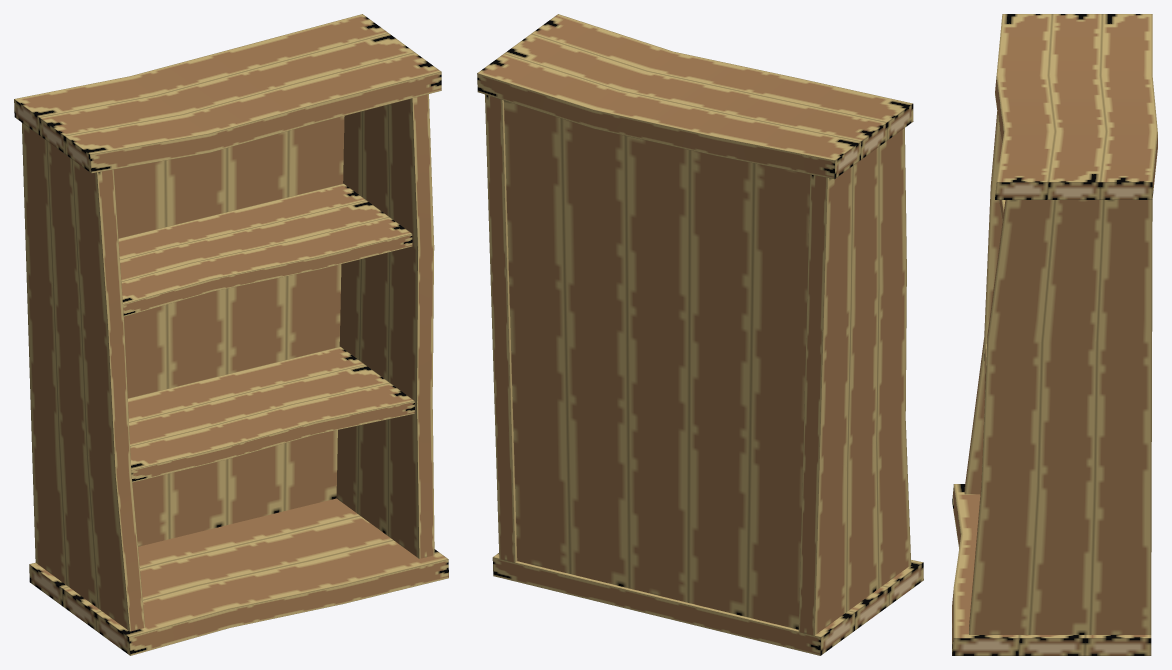
File: deco_cathedral_bookCaseEmpty.FBX
3 views of the same model, side by side, from view 1: azimuth 30°, elevation 25°; view 2: azimuth 150°, elevation 25°; view 3: azimuth 270°, elevation 25° (orthographic). The views are drawn at different scales.
Parts seen in each view (by area): view 1: deco_cathedral_bookCaseEmpty; view 2: deco_cathedral_bookCaseEmpty; view 3: deco_cathedral_bookCaseEmpty.
Part boxes in pixels (x1,y1,x2,y2): deco_cathedral_bookCaseEmpty: [14, 14, 448, 655]; deco_cathedral_bookCaseEmpty: [477, 14, 923, 655]; deco_cathedral_bookCaseEmpty: [952, 14, 1157, 655].
Bounding box in the file's own units: 3 × 4 × 1.55.
1 material, 1 textured.
